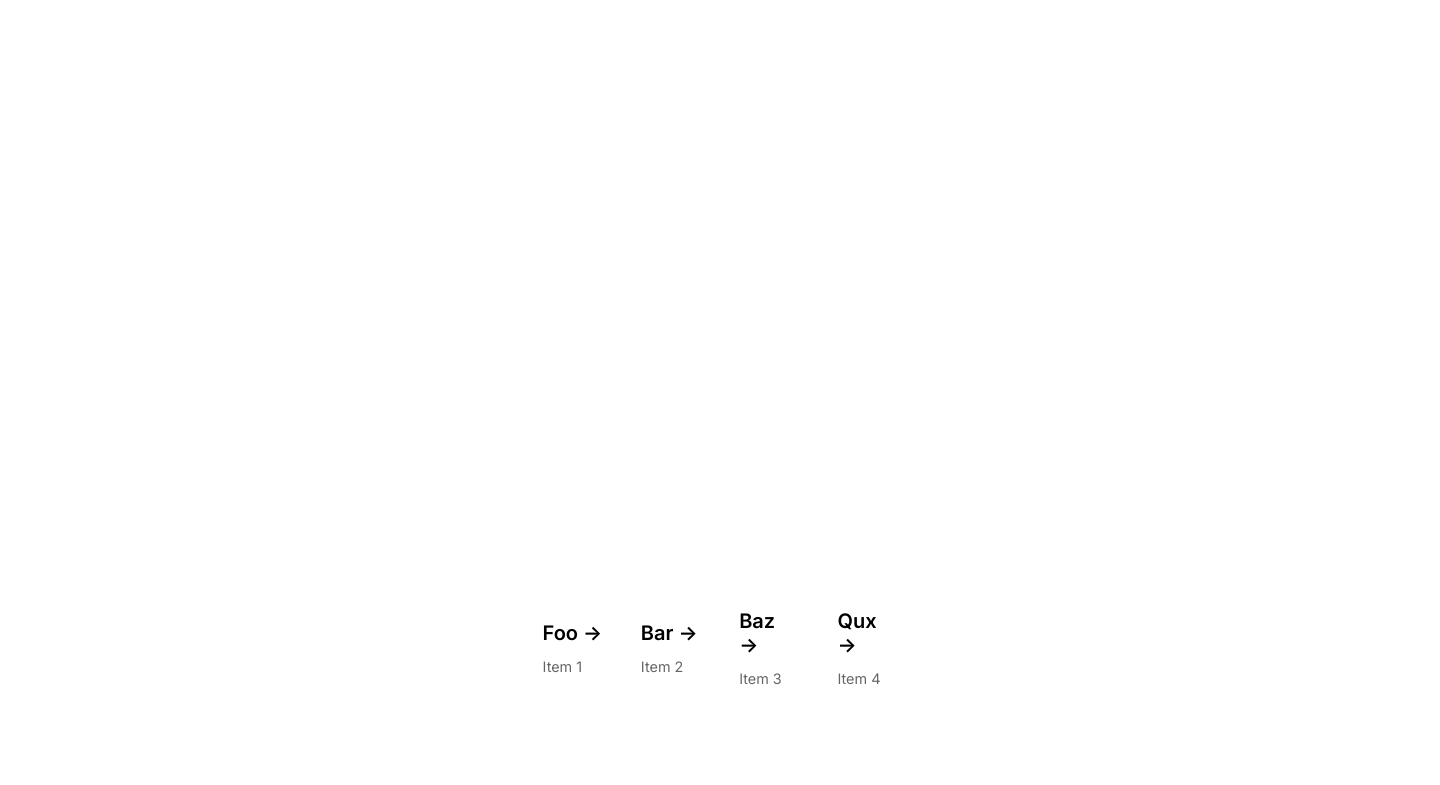
Home Page › renders a basket with 1 of Foo and 2 of Bars
The image size is (1440, 785).
(page scrolled)
Click the button with aria-label "Add to basket" at (573, 641), box [523, 577, 622, 706]
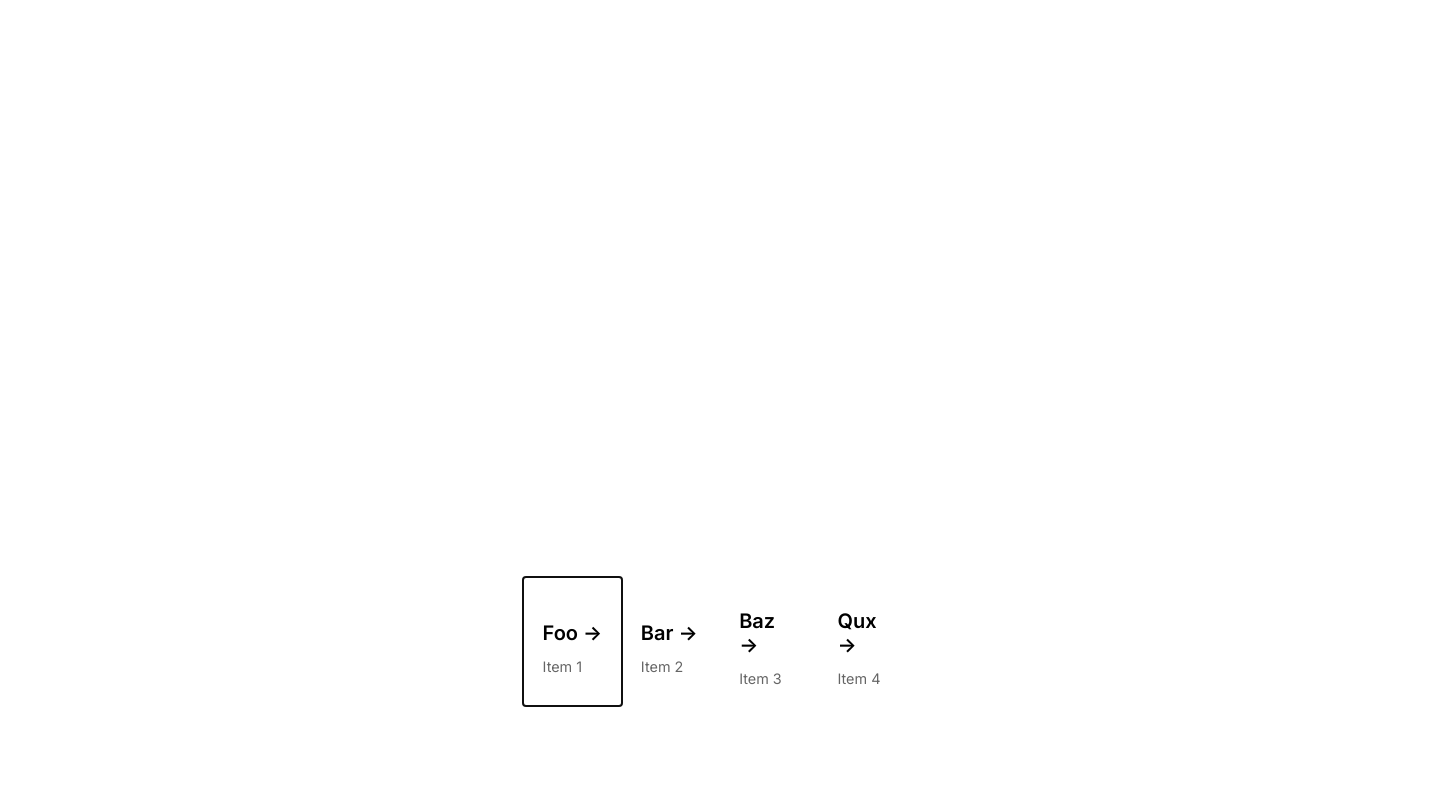
Click the button with aria-label "Add to basket" at (671, 641), box [622, 577, 720, 706]
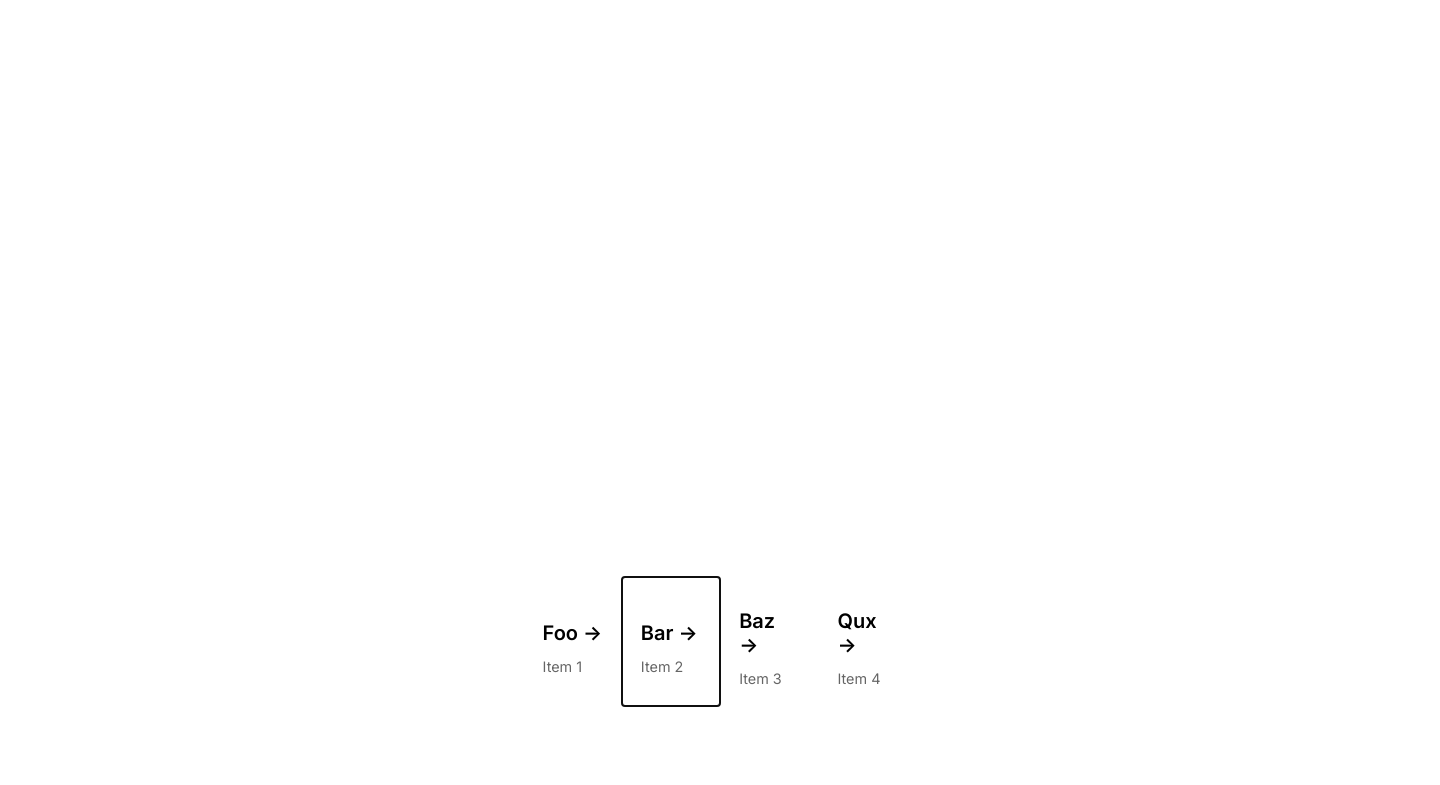
Click the button with aria-label "Add to basket" at (671, 641), box [622, 577, 720, 706]
(page scrolled)
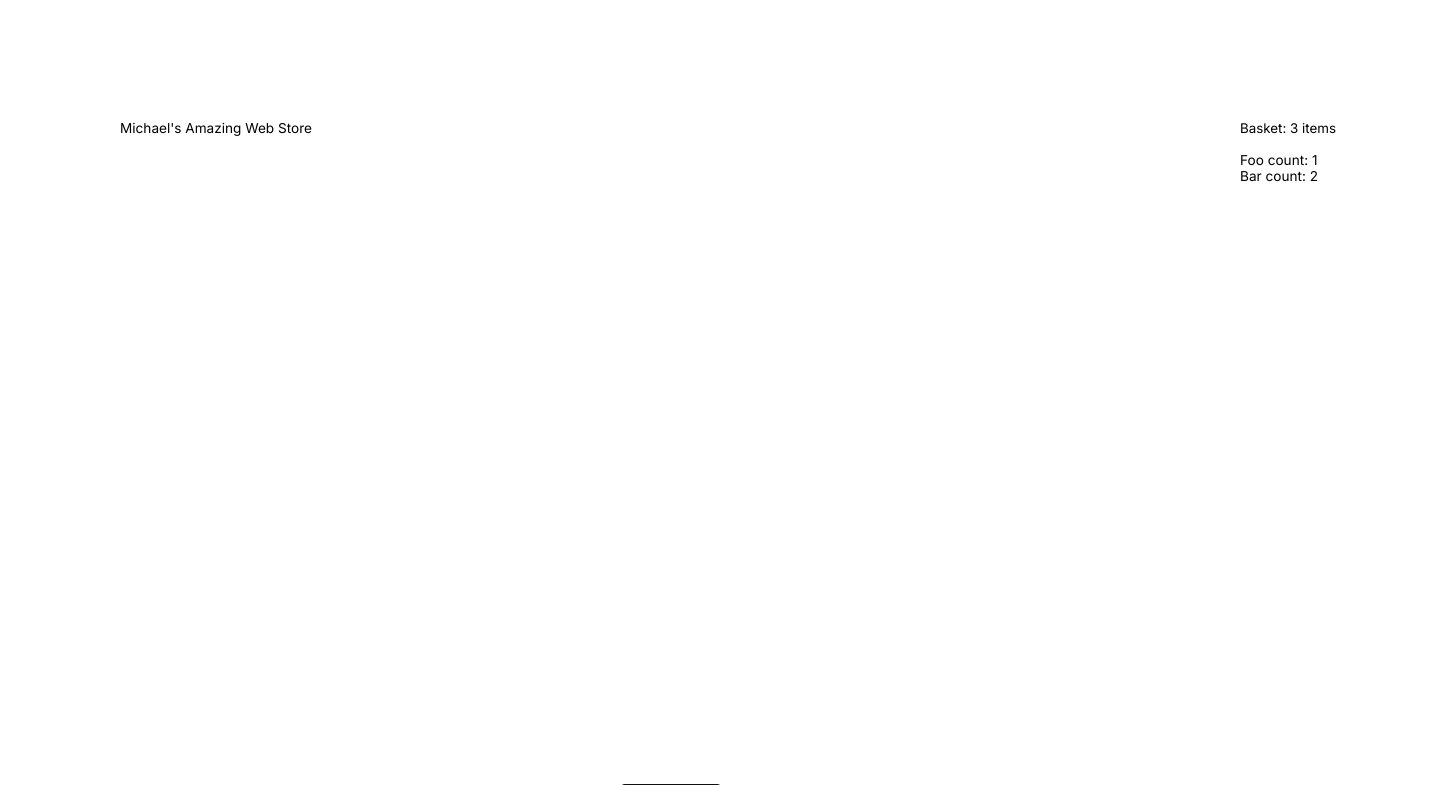
Expected: the message named "item-count" reads "Foo count: 1", [1240, 152, 1317, 168]
Expected: the button "Basket: 3 items" is shown, [1240, 104, 1336, 152]
Expected: the message named "item-count" reads "Bar count: 2", [1240, 168, 1318, 184]
